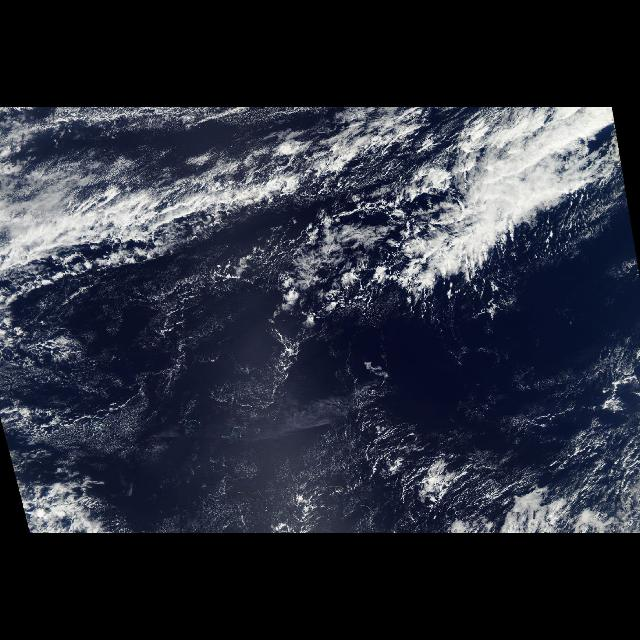Fish: (2, 113, 636, 379)
Sugar: (170, 390, 626, 530), (12, 115, 356, 208)
